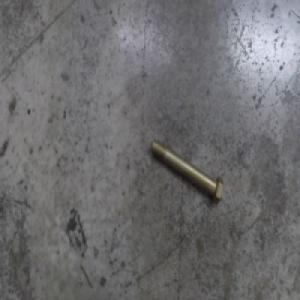Bolt: (150, 136, 223, 205)
